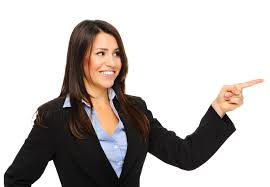hand: (209, 68, 269, 114)
